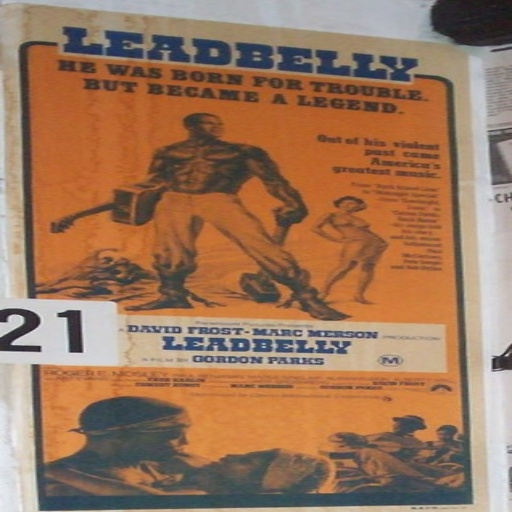hand: (270, 204, 304, 227), (333, 236, 355, 243)
